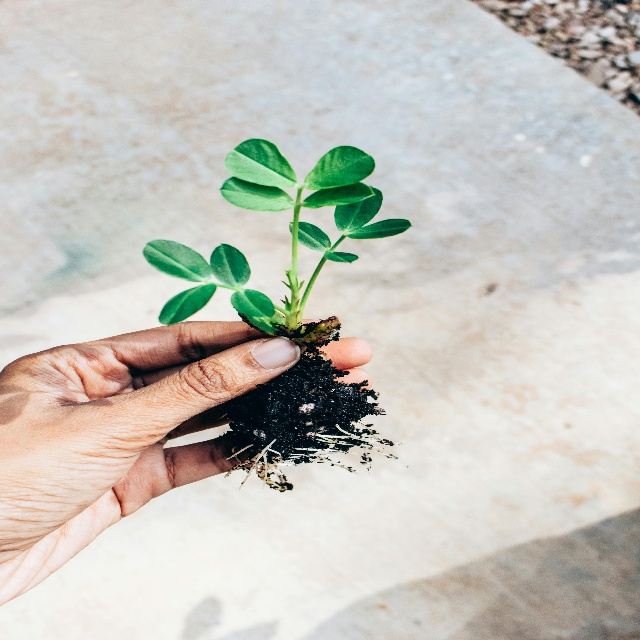Sin_guantes: (0, 316, 381, 609)
